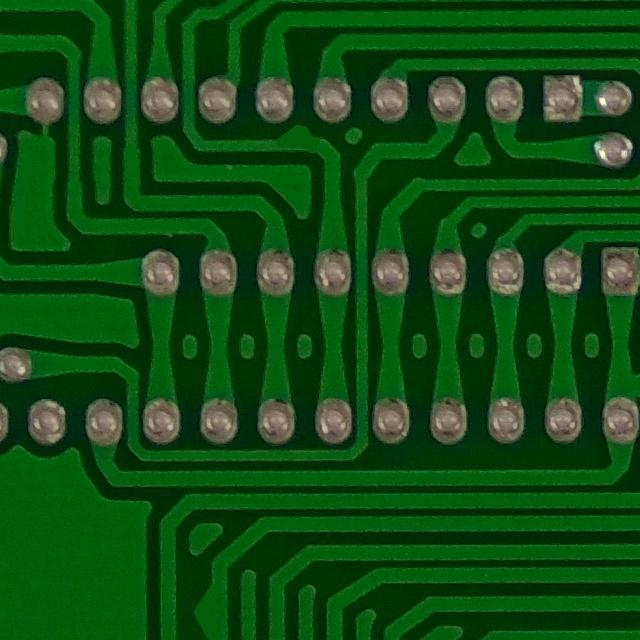spur: (187, 571, 230, 640), (265, 117, 328, 155)
